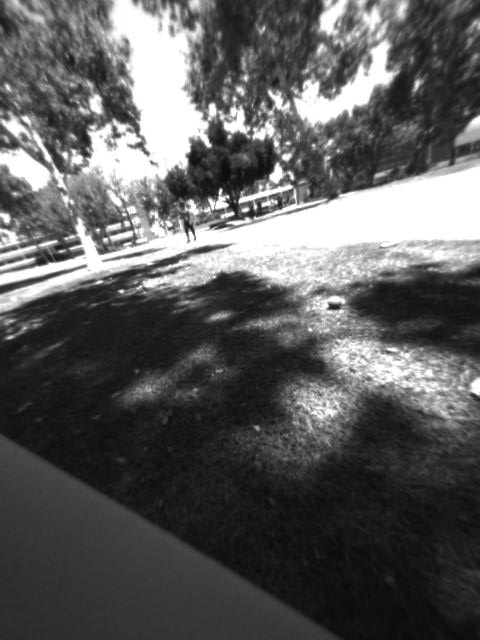dogtoy: (321, 285, 353, 316)
